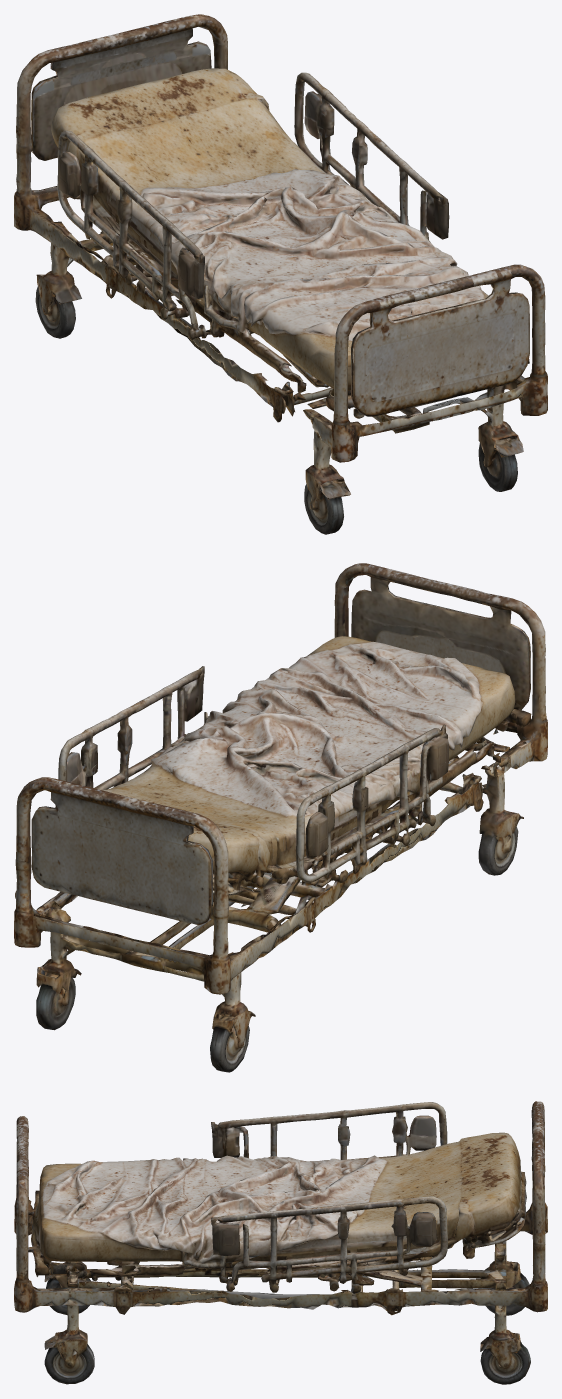
The model's file is HospitalBed.fbx.
The picture shows the model from 3 angles, top to bottom: view 1: azimuth 30°, elevation 25°; view 2: azimuth 150°, elevation 25°; view 3: azimuth 270°, elevation 25°; orthographic projection. The views are drawn at different scales.
Parts seen in each view (by area): view 1: texture_mapping; view 2: texture_mapping; view 3: texture_mapping.
Boxes of the visible parts, left/top/right/bottom form: texture_mapping: left=14, top=14, right=547, bottom=534; texture_mapping: left=14, top=563, right=547, bottom=1072; texture_mapping: left=14, top=1101, right=547, bottom=1384.
Size of the model in its own units: 0.4588 by 0.9989 by 0.4477.
Materials: 1 (1 with a texture image).
